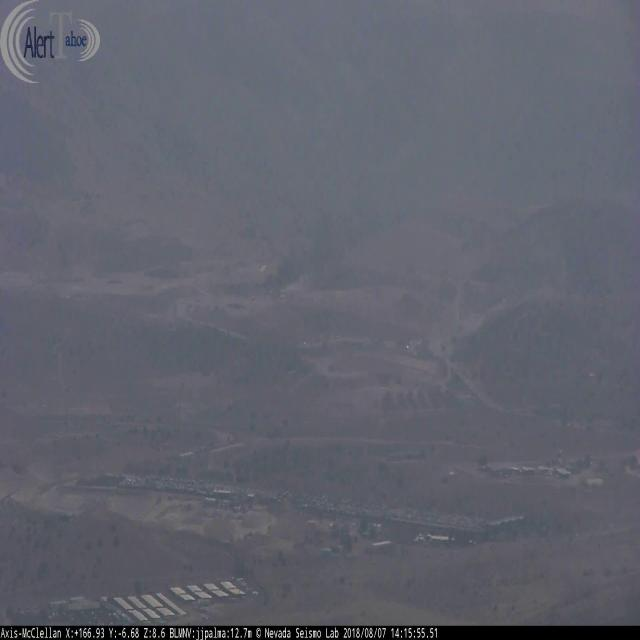smoke: (266, 178, 379, 307)
